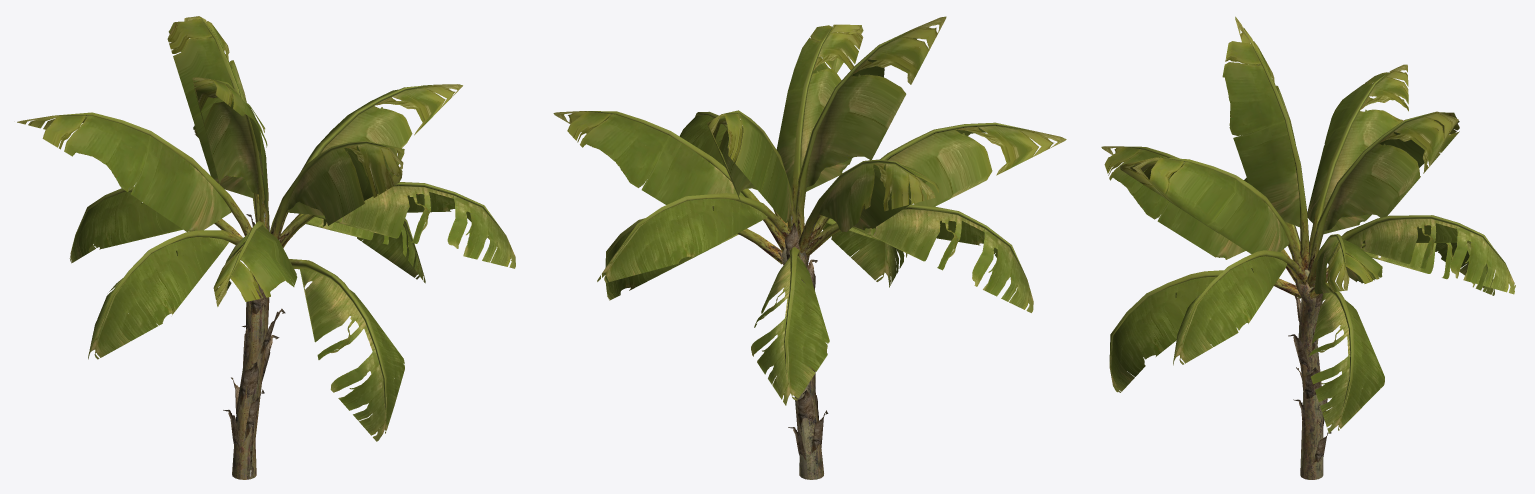
File: banana_plant.glb
3 views of the same model, side by side, from view 1: azimuth 30°, elevation 25°; view 2: azimuth 150°, elevation 25°; view 3: azimuth 270°, elevation 25° (orthographic). The views are drawn at different scales.
Visible parts, largest first — view 1: Tree_1_Tree_1Mat_0, Tree_2_Tree_2Mat_0, Tree_4_Tree_4Mat_0, Tree_0_Tree_0Mat_0, Tree_3_Tree_3Mat_0; view 2: Tree_1_Tree_1Mat_0, Tree_2_Tree_2Mat_0, Tree_4_Tree_4Mat_0, Tree_0_Tree_0Mat_0, Tree_3_Tree_3Mat_0; view 3: Tree_1_Tree_1Mat_0, Tree_2_Tree_2Mat_0, Tree_4_Tree_4Mat_0, Tree_0_Tree_0Mat_0, Tree_3_Tree_3Mat_0.
Boxes of the visible parts, box(x1,y1,x2,y2) form: Tree_1_Tree_1Mat_0: box(17, 16, 462, 306); Tree_2_Tree_2Mat_0: box(69, 103, 515, 441); Tree_4_Tree_4Mat_0: box(55, 17, 505, 412); Tree_0_Tree_0Mat_0: box(232, 274, 269, 479); Tree_3_Tree_3Mat_0: box(223, 214, 285, 468); Tree_1_Tree_1Mat_0: box(553, 16, 1066, 232); Tree_2_Tree_2Mat_0: box(597, 115, 1033, 405); Tree_4_Tree_4Mat_0: box(585, 25, 1031, 374); Tree_0_Tree_0Mat_0: box(781, 246, 823, 479); Tree_3_Tree_3Mat_0: box(770, 222, 828, 459); Tree_1_Tree_1Mat_0: box(1101, 16, 1459, 294); Tree_2_Tree_2Mat_0: box(1109, 177, 1515, 433); Tree_4_Tree_4Mat_0: box(1109, 42, 1503, 408); Tree_0_Tree_0Mat_0: box(1295, 269, 1323, 479); Tree_3_Tree_3Mat_0: box(1288, 247, 1331, 463).
Size of the model in its own units: 3.01 by 3 by 2.74.
Materials: 5 (5 with a texture image).
